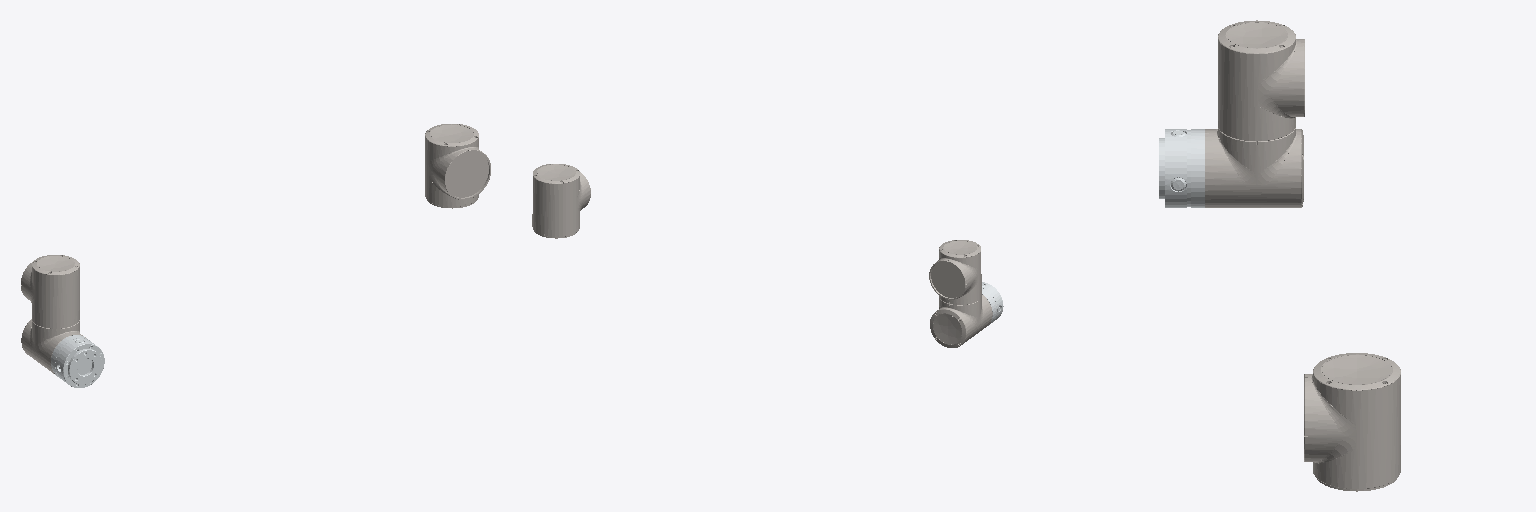
The robot description file, URDF, robot "fr5c":
<?xml version="1.0" encoding="utf-8"?>
<!-- This URDF was automatically created by SolidWorks to URDF Exporter! Originally created by Stephen Brawner (brawner@gmail.com) 
     Commit Version: 1.5.1-0-g916b5db  Build Version: 1.5.7152.31018
     For more information, please see http://wiki.ros.org/sw_urdf_exporter -->
<robot
  name="fr5c">
  <link
    name="base_link">
    <inertial>
      <origin
        xyz="-1.4827E-05 0.0050006 0.035726"
        rpy="0 0 0" />
      <mass
        value="0.60007" />
      <inertia
        ixx="0.00077666"
        ixy="5.7733E-07"
        ixz="4.3669E-07"
        iyy="0.00066312"
        iyz="-1.924E-05"
        izz="0.00080686" />
    </inertial>
    <visual>
      <origin
        xyz="0 0 0"
        rpy="0 0 0" />
      <geometry>
        <mesh
          filename="package://fairino_description/meshes/fr5c/visual/base_link.dae" />
      </geometry>
      <material
        name="">
        <color
          rgba="1 1 1 1" />
      </material>
    </visual>
    <collision>
      <origin
        xyz="0 0 0"
        rpy="0 0 0" />
      <geometry>
        <mesh
          filename="package://fairino_description/meshes/fr5c/collision/base_link.STL" />
      </geometry>
    </collision>
  </link>
  <link
    name="shoulder_Link">
    <inertial>
      <origin
        xyz="-0.00013 -0.01642 0.00231"
        rpy="0 0 0" />
      <mass
        value="2.19" />
      <inertia
        ixx="0.00294352"
        ixy="-0.000008875"
        ixz="-0.000009853"
        iyy="0.002215866"
        iyz="0.000089447"
        izz="0.00286359" />
    </inertial>
    <visual>
      <origin
        xyz="0 0 0"
        rpy="0 0 0" />
      <geometry>
        <mesh
          filename="package://fairino_description/meshes/fr5c/visual/shoulder_Link.dae" />
      </geometry>
      <material
        name="">
        <color
          rgba="0.78039 0.76078 0.74118 1" />
      </material>
    </visual>
    <collision>
      <origin
        xyz="0 0 0"
        rpy="0 0 0" />
      <geometry>
        <mesh
          filename="package://fairino_description/meshes/fr5c/collision/shoulder_Link.STL" />
      </geometry>
    </collision>
  </link>
  <joint
    name="j1"
    type="revolute">
    <origin
      xyz="0 0 0"
      rpy="0 0 0" />
    <parent
      link="base_link" />
    <child
      link="shoulder_Link" />
    <axis
      xyz="0 0 1" />
    <limit
      lower="-3.0543"
      upper="3.0543"
      effort="110"
      velocity="3.15" />
    <calibration
      rising="0"
      falling="0" />
    <dynamics
      damping="0"
      friction="0" />
    <safety_controller
      soft_upper_limit="3.0543"
      soft_lower_limit="-3.0543"
      k_position="110"
      k_velocity="3.15" />
  </joint>
  <link
    name="upperarm_Link">
    <inertial>
      <origin
        xyz="0.21459 -0.0003 0.09971"
        rpy="0 0 0" />
      <mass
        value="5.05" />
      <inertia
        ixx="0.006911284"
        ixy="-0.000041404"
        ixz="0.000111781"
        iyy="0.208120899"
        iyz="-0.000013566"
        izz="0.206546032" />
    </inertial>
    <visual>
      <origin
        xyz="0 0 0"
        rpy="0 0 0" />
      <geometry>
        <mesh
          filename="package://fairino_description/meshes/fr5c/visual/upperarm_Link.dae" />
      </geometry>
      <material
        name="">
        <color
          rgba="0.96863 0.96863 0.96863 1" />
      </material>
    </visual>
    <collision>
      <origin
        xyz="0 0 0"
        rpy="0 0 0" />
      <geometry>
        <mesh
          filename="package://fairino_description/meshes/fr5c/collision/upperarm_Link.STL" />
      </geometry>
    </collision>
  </link>
  <joint
    name="j2"
    type="revolute">
    <origin
      xyz="0 0 0.14"
      rpy="1.5708 0 0" />
    <parent
      link="shoulder_Link" />
    <child
      link="upperarm_Link" />
    <axis
      xyz="0 0 1" />
    <limit
      lower="-4.6251"
      upper="1.4835"
      effort="110"
      velocity="3.15" />
    <calibration
      rising="0"
      falling="0" />
    <dynamics
      damping="0"
      friction="0" />
    <safety_controller
      soft_upper_limit="1.4835"
      soft_lower_limit="-4.6251"
      k_position="110"
      k_velocity="3.15" />
  </joint>
  <link
    name="forearm_Link">
    <inertial>
      <origin
        xyz="0.09396 0.00007 0.012"
        rpy="0 0 0" />
      <mass
        value="2.29" />
      <inertia
        ixx="0.002743383"
        ixy="0.000020033"
        ixz="-0.000534788"
        iyy="0.052363139"
        iyz="-0.00000127"
        izz="0.051970681" />
    </inertial>
    <visual>
      <origin
        xyz="0 0 0"
        rpy="0 0 0" />
      <geometry>
        <mesh
          filename="package://fairino_description/meshes/fr5c/visual/forearm_Link.dae" />
      </geometry>
      <material
        name="">
        <color
          rgba="0.88235 0.88235 0.88235 1" />
      </material>
    </visual>
    <collision>
      <origin
        xyz="0 0 0"
        rpy="0 0 0" />
      <geometry>
        <mesh
          filename="package://fairino_description/meshes/fr5c/collision/forearm_Link.STL" />
      </geometry>
    </collision>
  </link>
  <joint
    name="j3"
    type="revolute">
    <origin
      xyz="-0.425 0 0"
      rpy="0 0 0" />
    <parent
      link="upperarm_Link" />
    <child
      link="forearm_Link" />
    <axis
      xyz="0 0 1" />
    <limit
      lower="-2.618"
      upper="2.618"
      effort="110"
      velocity="3.15" />
    <calibration
      rising="0"
      falling="0" />
    <dynamics
      damping="0"
      friction="0" />
    <safety_controller
      soft_upper_limit="2.618"
      soft_lower_limit="-2.618"
      k_position="110"
      k_velocity="3.15" />
  </joint>
  <link
    name="wrist1_Link">
    <inertial>
      <origin
        xyz="0.00005 -0.00244 0.01453"
        rpy="0 0 0" />
      <mass
        value="1.53" />
      <inertia
        ixx="0.001616969"
        ixy="-0.000003589"
        ixz="-0.000003911"
        iyy="0.001573425"
        iyz="0.000057278"
        izz="0.001249457" />
    </inertial>
    <visual>
      <origin
        xyz="0 0 0"
        rpy="0 0 0" />
      <geometry>
        <mesh
          filename="package://fairino_description/meshes/fr5c/visual/wrist1_Link.dae" />
      </geometry>
      <material
        name="">
        <color
          rgba="0.78039 0.76078 0.74118 1" />
      </material>
    </visual>
    <collision>
      <origin
        xyz="0 0 0"
        rpy="0 0 0" />
      <geometry>
        <mesh
          filename="package://fairino_description/meshes/fr5c/collision/wrist1_Link.STL" />
      </geometry>
    </collision>
  </link>
  <joint
    name="j4"
    type="revolute">
    <origin
      xyz="-0.395 0 0"
      rpy="0 0 0" />
    <parent
      link="forearm_Link" />
    <child
      link="wrist1_Link" />
    <axis
      xyz="0 0 1" />
    <limit
      lower="-4.6251"
      upper="1.4835"
      effort="63"
      velocity="3.2" />
    <calibration
      rising="0"
      falling="0" />
    <dynamics
      damping="0"
      friction="0" />
    <safety_controller
      soft_upper_limit="1.4835"
      soft_lower_limit="-4.6251"
      k_position="63"
      k_velocity="3.2" />
  </joint>
  <link
    name="wrist2_Link">
    <inertial>
      <origin
        xyz="-0.00005 0.00244 0.01453"
        rpy="0 0 0" />
      <mass
        value="1.53" />
      <inertia
        ixx="0.001616969"
        ixy="-0.000003589"
        ixz="0.000003911"
        iyy="0.001573425"
        iyz="-0.000057278"
        izz="0.001249457" />
    </inertial>
    <visual>
      <origin
        xyz="0 0 0"
        rpy="0 0 0" />
      <geometry>
        <mesh
          filename="package://fairino_description/meshes/fr5c/visual/wrist2_Link.dae" />
      </geometry>
      <material
        name="">
        <color
          rgba="0.78039 0.76078 0.74118 1" />
      </material>
    </visual>
    <collision>
      <origin
        xyz="0 0 0"
        rpy="0 0 0" />
      <geometry>
        <mesh
          filename="package://fairino_description/meshes/fr5c/collision/wrist2_Link.STL" />
      </geometry>
    </collision>
  </link>
  <joint
    name="j5"
    type="revolute">
    <origin
      xyz="0 0 0.102"
      rpy="1.5708 0 0" />
    <parent
      link="wrist1_Link" />
    <child
      link="wrist2_Link" />
    <axis
      xyz="0 0 1" />
    <limit
      lower="0"
      upper="6.195919"
      effort="63"
      velocity="3.2" />
    <calibration
      rising="0"
      falling="0" />
    <dynamics
      damping="0"
      friction="0" />
    <safety_controller
      soft_upper_limit="6.195919"
      soft_lower_limit="0"
      k_position="63"
      k_velocity="3.2" />
  </joint>
  <link
    name="wrist3_Link">
    <inertial>
      <origin
        xyz="0.00147 0.00143 -0.0201"
        rpy="0 0 0" />
      <mass
        value="0.28" />
      <inertia
        ixx="0.000201687"
        ixy="0.000000602"
        ixz="0.000000949"
        iyy="0.000202819"
        iyz="-0.000000015"
        izz="0.000306138" />
    </inertial>
    <visual>
      <origin
        xyz="0 0 0"
        rpy="0 0 0" />
      <geometry>
        <mesh
          filename="package://fairino_description/meshes/fr5c/visual/wrist3_Link.dae" />
      </geometry>
      <material
        name="">
        <color
          rgba="0.89804 0.91765 0.92941 1" />
      </material>
    </visual>
    <collision>
      <origin
        xyz="0 0 0"
        rpy="0 0 0" />
      <geometry>
        <mesh
          filename="package://fairino_description/meshes/fr5c/collision/wrist3_Link.STL" />
      </geometry>
    </collision>
  </link>
  <joint
    name="j6"
    type="revolute">
    <origin
      xyz="0 0 0.102"
      rpy="-1.5708 0 0" />
    <parent
      link="wrist2_Link" />
    <child
      link="wrist3_Link" />
    <axis
      xyz="0 0 1" />
    <limit
      lower="-6.283185"
      upper="6.283185"
      effort="63"
      velocity="3.2" />
    <calibration
      rising="0"
      falling="0" />
    <dynamics
      damping="0"
      friction="0" />
    <safety_controller
      soft_upper_limit="6.283185"
      soft_lower_limit="-6.283185"
      k_position="63"
      k_velocity="3.2" />
  </joint>
</robot>

--- What the picture shows (computed from the rendered views, not written in the file) ---
3 views of the same robot in one strip: view 1: azimuth 30°, elevation 25°; view 2: azimuth 150°, elevation 25°; view 3: azimuth 270°, elevation 25° (orthographic).
Model fr5c with 7 links and 6 joints (6 revolute), rooted at base_link, posed every joint at zero.
Visible links, largest first — view 1: shoulder_Link, wrist1_Link, wrist3_Link, wrist2_Link; view 2: shoulder_Link, wrist1_Link, wrist2_Link; view 3: shoulder_Link, wrist1_Link, wrist2_Link, wrist3_Link.
Boxes of the visible links, bbox=[...] form: shoulder_Link: bbox=[425, 124, 490, 208]; wrist1_Link: bbox=[21, 255, 79, 328]; wrist3_Link: bbox=[51, 335, 104, 387]; wrist2_Link: bbox=[21, 319, 85, 373]; shoulder_Link: bbox=[532, 164, 590, 238]; wrist1_Link: bbox=[929, 240, 981, 304]; wrist2_Link: bbox=[930, 295, 992, 347]; shoulder_Link: bbox=[1304, 353, 1400, 491]; wrist1_Link: bbox=[1218, 20, 1304, 140]; wrist2_Link: bbox=[1205, 128, 1303, 207]; wrist3_Link: bbox=[1159, 129, 1204, 207].
Bounding box of the posed robot: 0.905 × 0.247 × 0.196 m (x, y, z).
Meshes: 7 distinct files referenced, 4 mesh visuals loaded (4 Collada DAE); not drawn: 3 (reference not matched to a file when rendering).
